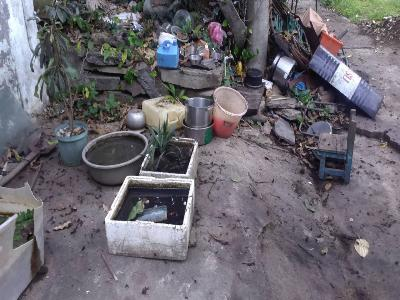bottle: (156, 38, 180, 69), (185, 53, 204, 67)
bowl: (307, 45, 385, 120), (78, 131, 152, 185), (181, 96, 215, 128), (179, 118, 216, 145), (124, 108, 148, 129)
bucket: (210, 84, 250, 140), (140, 94, 186, 134)
styrofoam: (102, 174, 197, 263), (138, 132, 198, 184)
